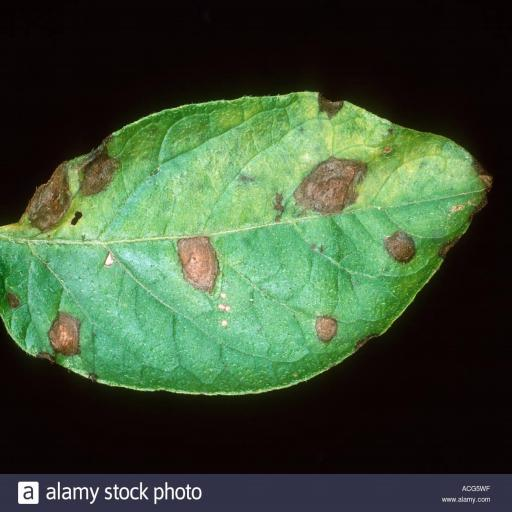Early Blight: (0, 93, 498, 397)
